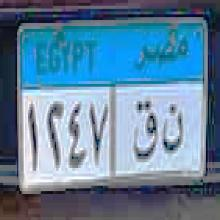1: (25, 95, 40, 175)
2: (43, 98, 64, 168)
4: (67, 100, 87, 168)
7: (87, 104, 109, 165)
noon: (162, 104, 184, 156)
qaaf: (130, 95, 158, 165)
